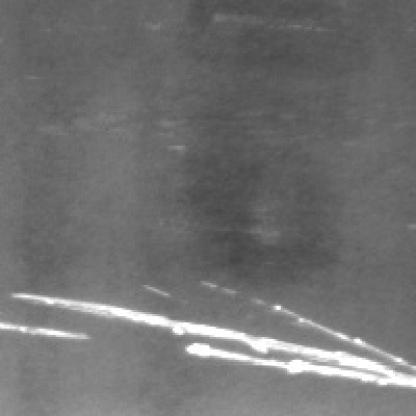scratches: (2, 279, 414, 385)
